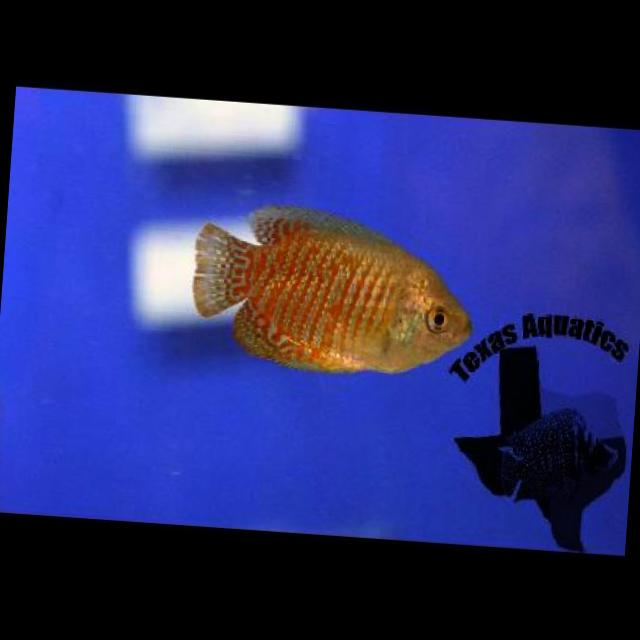Gourami: (180, 194, 486, 386)
